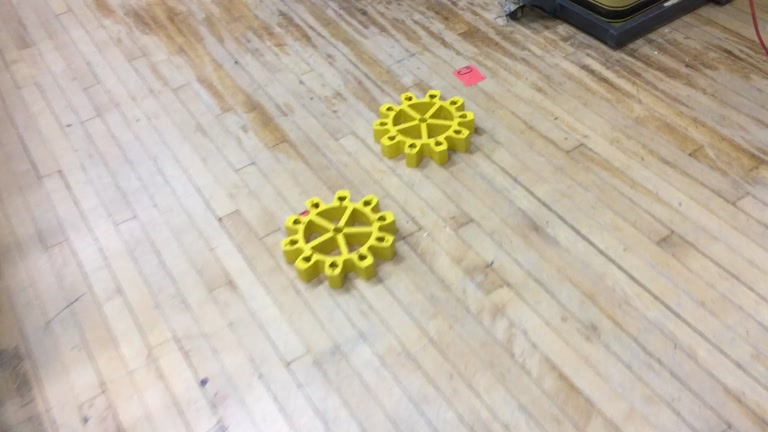gear: (280, 187, 397, 289), (373, 88, 475, 167)
